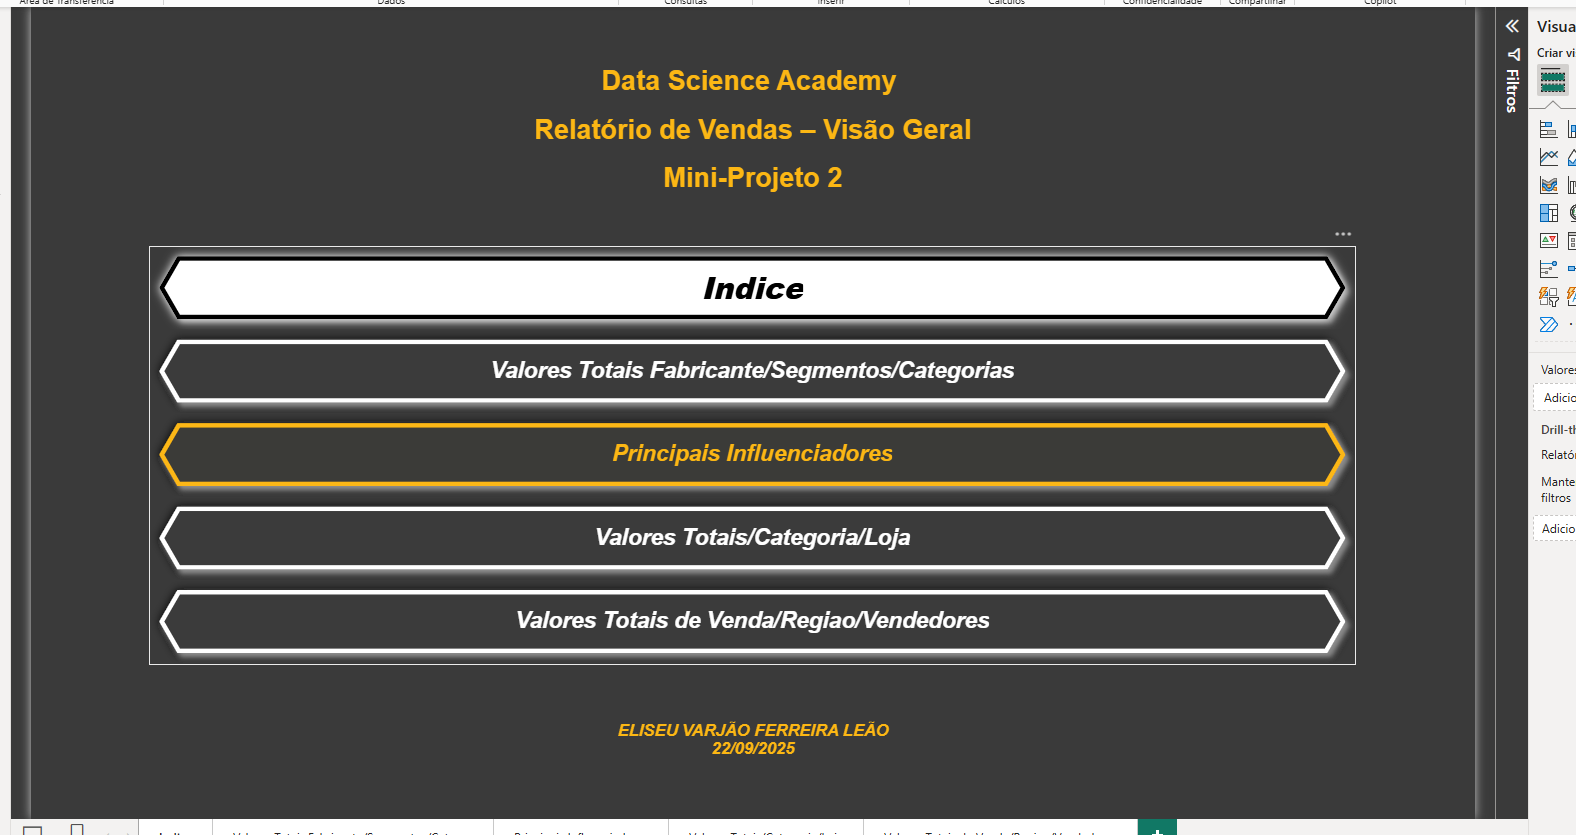

This screenshot's page, from the dashboard's own definition file:
{"tool":"powerbi","page":{"name":"Indice","canvas":[1280,720],"ordinal":0},"visuals":[{"type":"pageNavigator","box":[104.6,211.9,1070.2,371.5],"z":0},{"type":"textbox","box":[413.2,47,454,149],"z":1},{"type":"textbox","box":[485.9,628.7,308.6,57.6],"z":2}]}

Visuals, with their boxes on the page's 1280x720 design canvas (x1, y1, x2, y2). These are canvas units, not pixel positions in the 1576x835 screenshot, which may show the page scaled, cropped or inside an application window:
pageNavigator: select_region(105, 212, 1175, 583)
textbox: select_region(413, 47, 867, 196)
textbox: select_region(486, 629, 794, 686)
